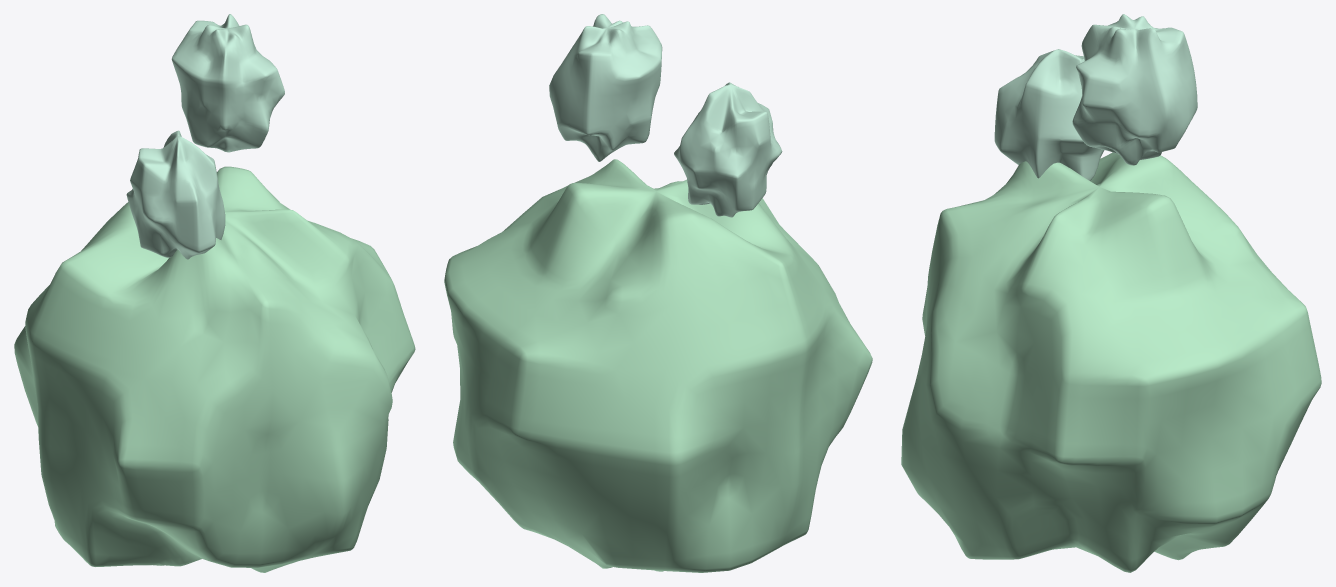
The model's file is PROP_Bush_v1.glb.
3 renders of one model, left to right at view 1: azimuth 30°, elevation 25°; view 2: azimuth 150°, elevation 25°; view 3: azimuth 270°, elevation 25°, orthographic. The views are drawn at different scales.
Parts seen in each view (by area): view 1: PROP_Bush_v1; view 2: PROP_Bush_v1; view 3: PROP_Bush_v1.
Boxes of the visible parts, x1,y1,x2,y2 form: PROP_Bush_v1: (14, 14, 415, 572); PROP_Bush_v1: (444, 14, 872, 572); PROP_Bush_v1: (901, 14, 1321, 572).
Size of the model in its own units: 1.36 by 1.92 by 1.33.
